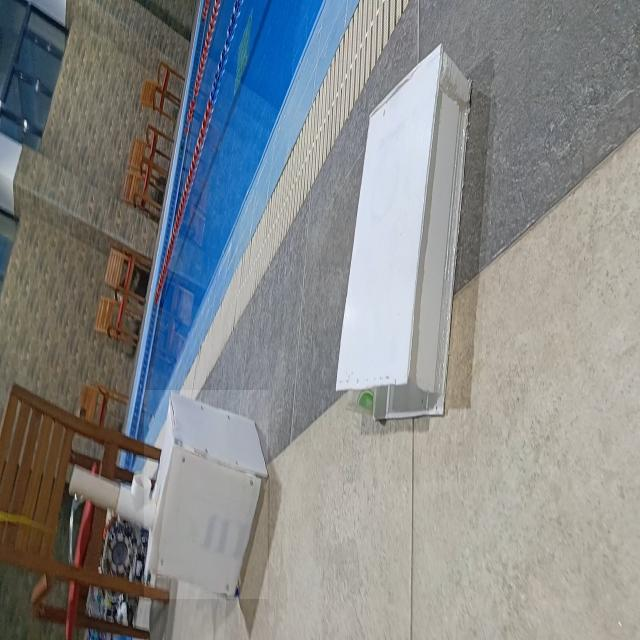Cube: (144, 390, 268, 599)
Cuboid: (334, 41, 472, 421)
